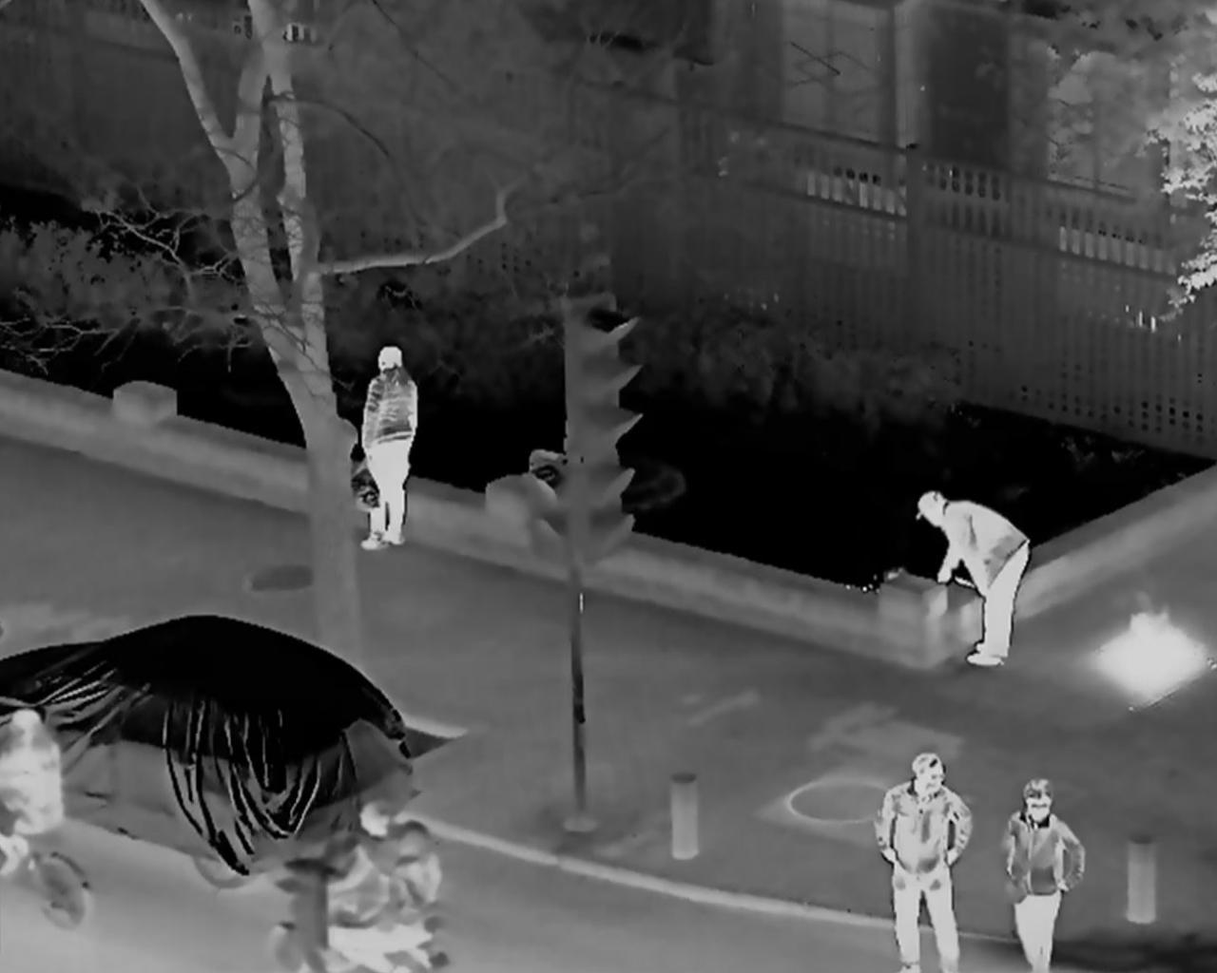person: (873, 748, 973, 973), (906, 486, 1027, 668), (279, 801, 390, 956), (1000, 779, 1087, 969), (334, 824, 443, 970), (351, 346, 421, 548)
